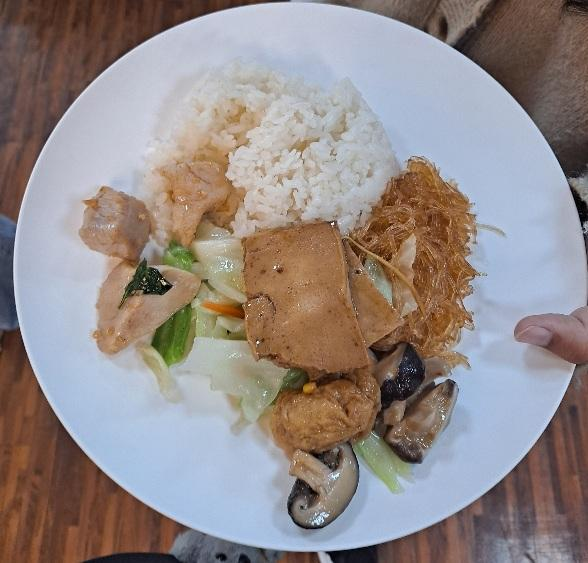big fried chicken leg: (13, 3, 588, 549)
braised fish fillet: (271, 352, 466, 533), (168, 234, 298, 418), (249, 223, 397, 368), (372, 149, 472, 355)
braised pork: (76, 137, 240, 356)
